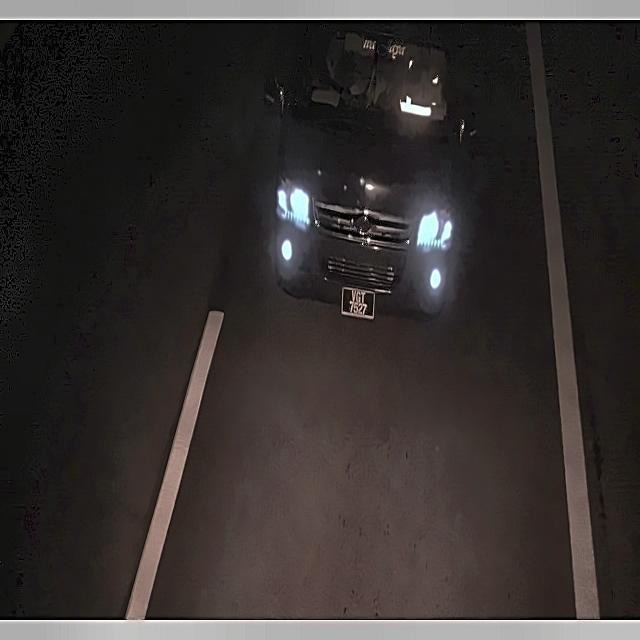car: (339, 282, 377, 325)
